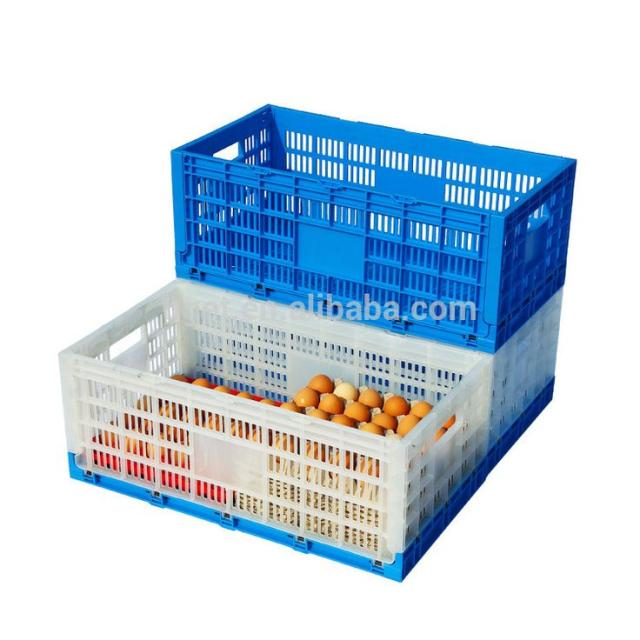basket: (54, 276, 562, 586), (147, 89, 587, 363), (448, 285, 602, 447)
